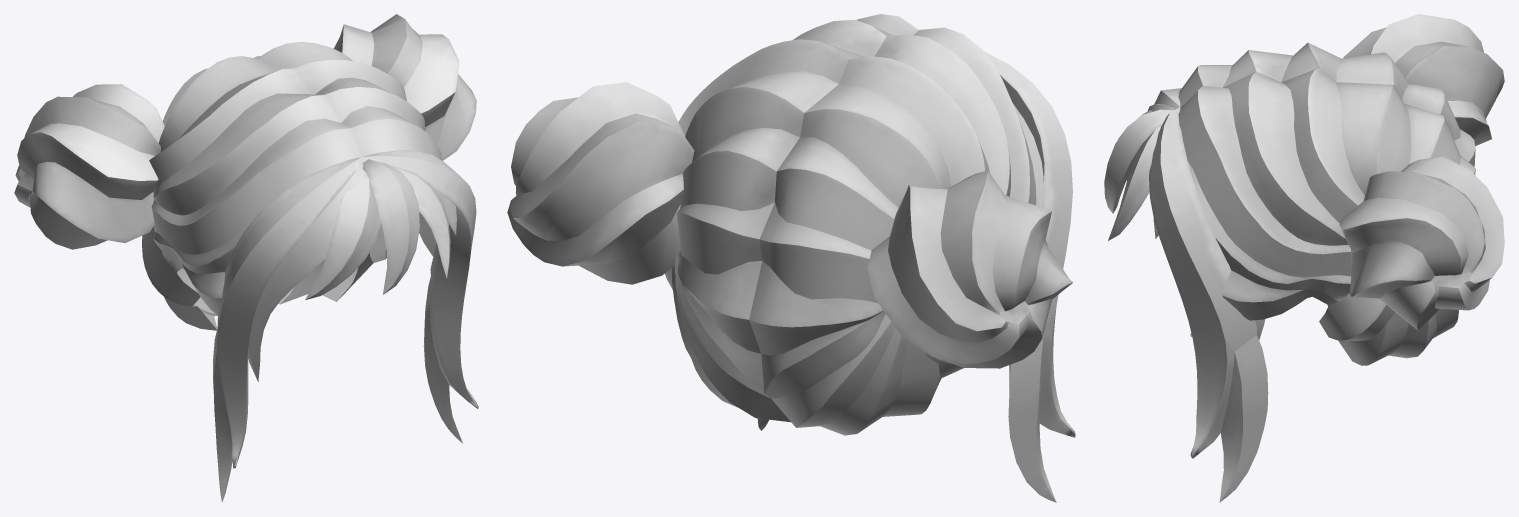
The model's file is hair-buns.glb.
3 renders of one model, left to right at view 1: azimuth 30°, elevation 25°; view 2: azimuth 150°, elevation 25°; view 3: azimuth 270°, elevation 25°, orthographic. The views are drawn at different scales.
Visible parts, largest first — view 1: hair-buns; view 2: hair-buns; view 3: hair-buns.
Boxes of the visible parts, left/top/right/bottom form: hair-buns: left=14, top=14, right=478, bottom=502; hair-buns: left=507, top=14, right=1075, bottom=502; hair-buns: left=1104, top=14, right=1504, bottom=502.
Size of the model in its own units: 0.3015 by 0.2482 by 0.237.
1 material, 1 textured.
